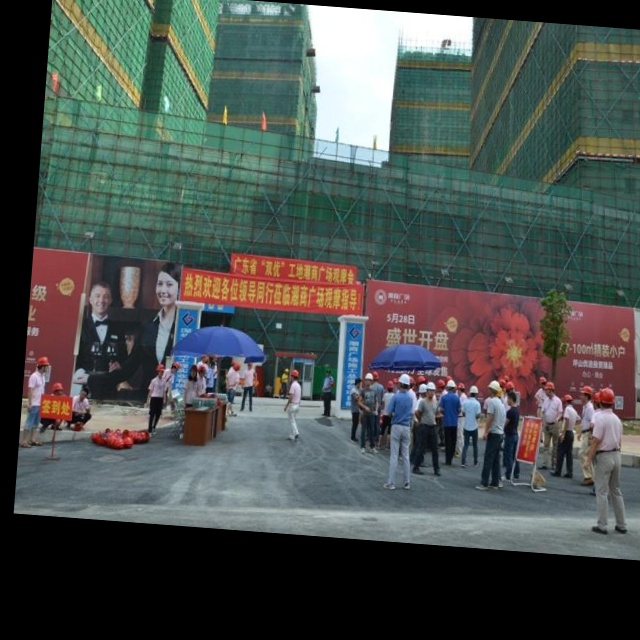Con_Casco: (599, 387, 616, 409), (397, 372, 411, 392), (489, 379, 501, 397), (290, 368, 300, 381), (365, 372, 373, 386)
